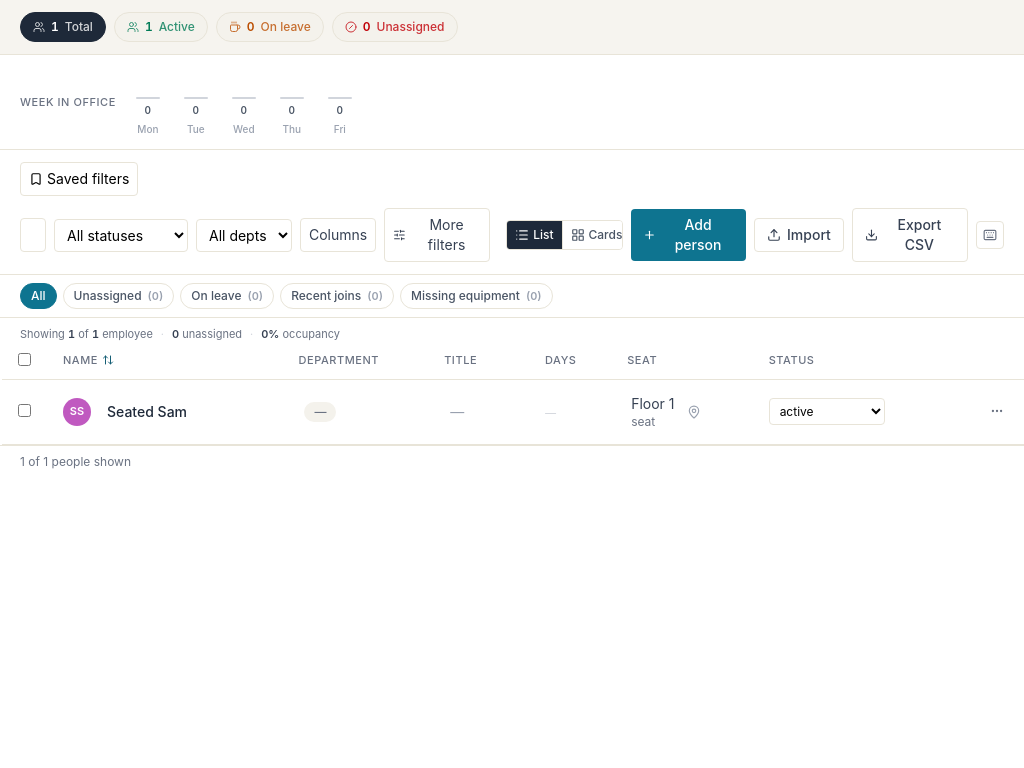
Test: Row Status → departed cascade › opens the unassign prompt when a seated person is marked departed
Select "departed" in the dropdown named "Status for Seated Sam" at [827, 412], box [769, 398, 885, 425]
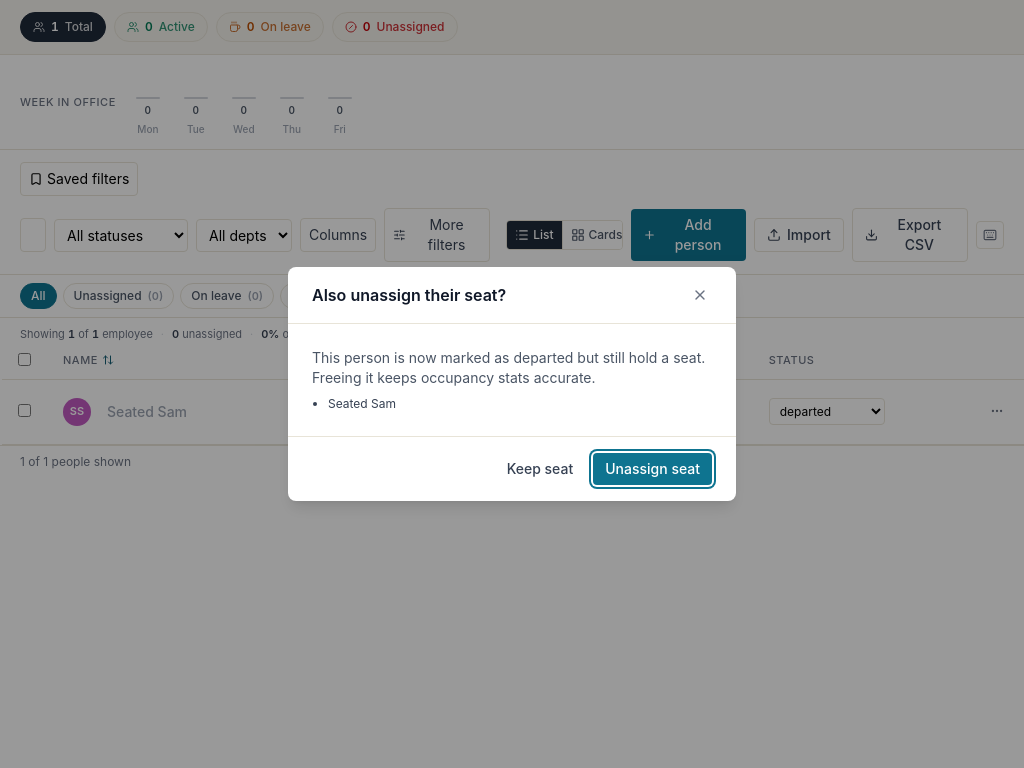
Check: the dialog is shown, box [288, 267, 736, 501]
Check: the heading "Also unassign their seat?" is shown, box [312, 283, 506, 307]
